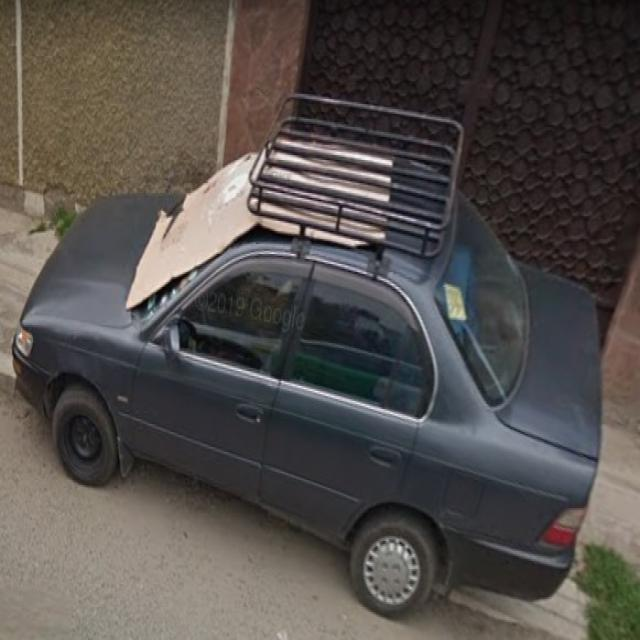cars: (19, 136, 607, 628)
